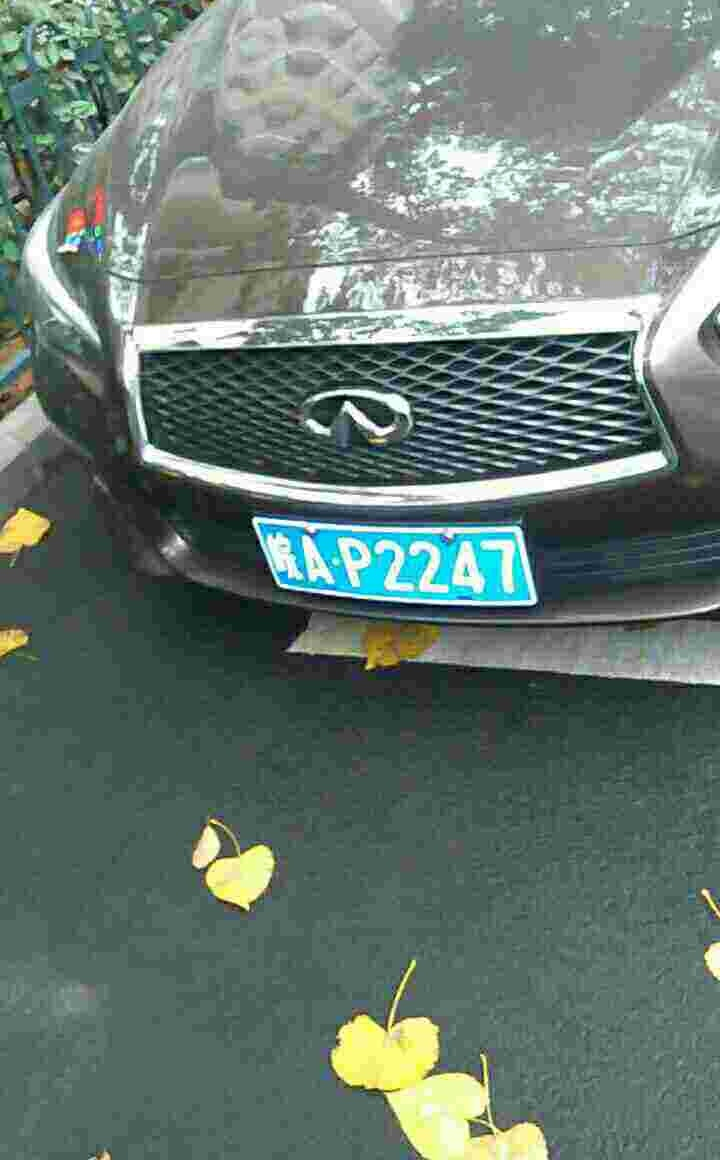plate: (244, 515, 544, 612)
